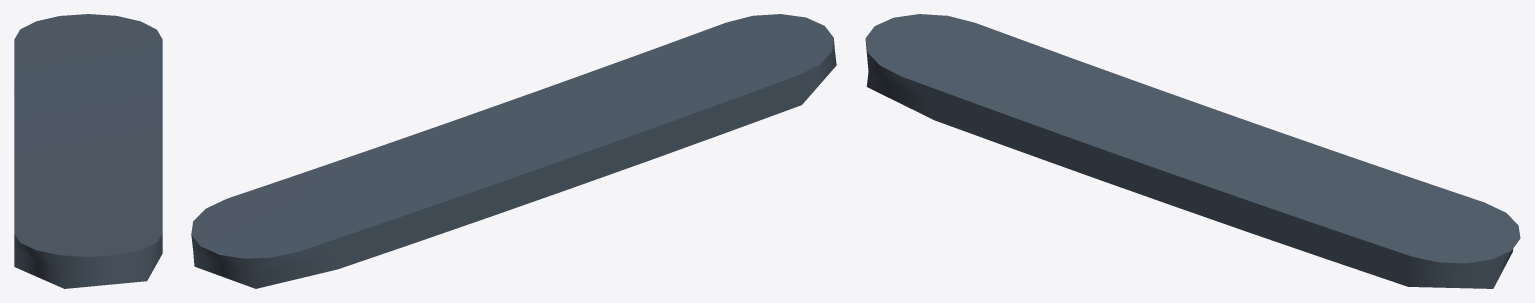
File: fl_wheel_9.obj
The picture shows the model from 3 angles, left to right: view 1: azimuth 30°, elevation 25°; view 2: azimuth 150°, elevation 25°; view 3: azimuth 270°, elevation 25°; orthographic projection. The views are drawn at different scales.
Bounding box in the file's own units: 0.00635 × 0.0016 × 0.00945.
